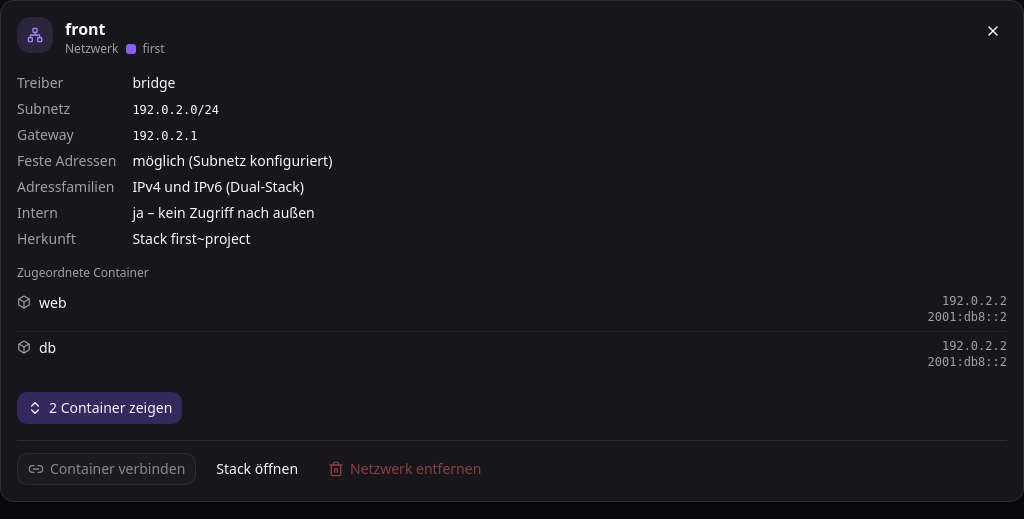
Test: A-N4 includes stackId in the network removal tooltip when the name is missing
The image size is (1024, 519).
Step 1. Hover over the element showing "Netzwerk entfernen" → [405, 469], box [318,453,491,485]
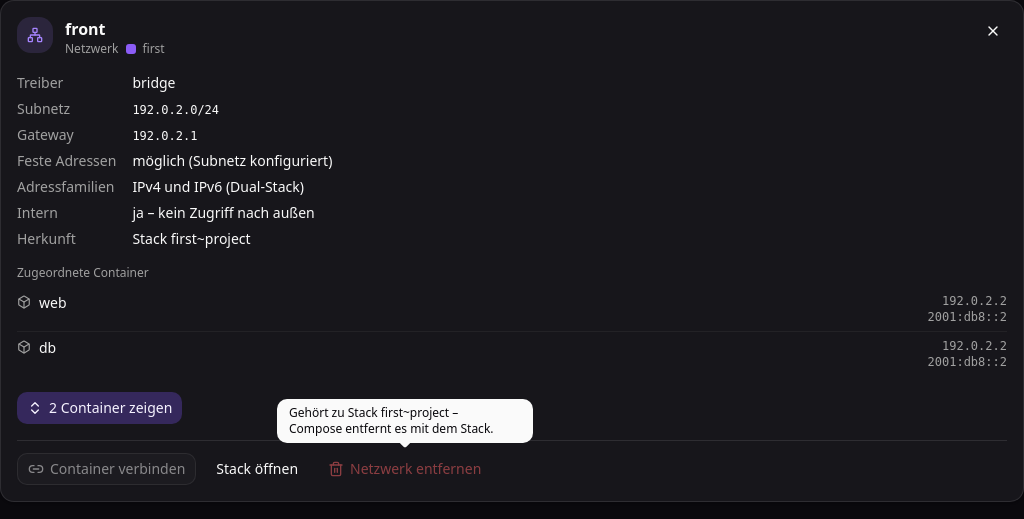
Now the tooltip shows "first~project", box [289,404,494,437]
